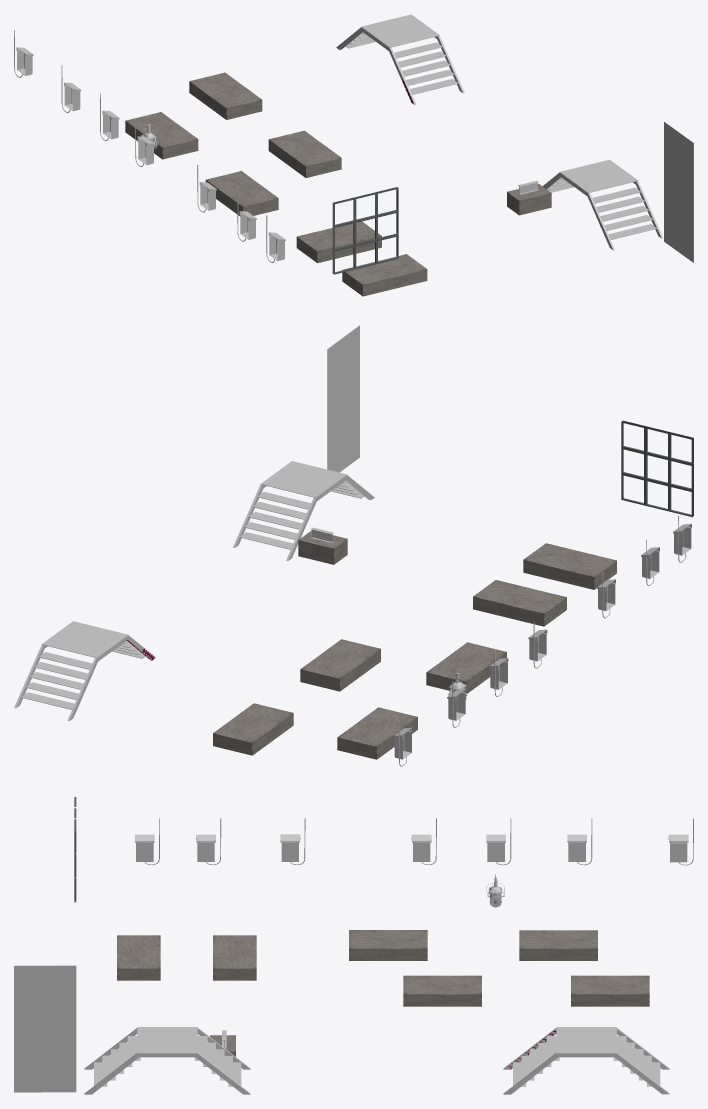
File: inner.DAE
The picture shows the model from 3 angles, top to bottom: view 1: azimuth 30°, elevation 25°; view 2: azimuth 150°, elevation 25°; view 3: azimuth 270°, elevation 25°; orthographic projection. The views are drawn at different scales.
Visible parts, largest first — view 1: W010_, W034-ins3_, W034_, W034-ins1_, W034_ins4, W034-ins5_, W034-ins2_, W052, W052-ins1, W101, W032-ins3_trans, W032_trans (+5 smaller); view 2: W010_, W034_ins4, W034-ins3_, W034_, W034-ins1_, W034-ins2_, W034-ins5_, W052-ins1, W052, W101; view 3: W010_, W034_, W034-ins1_, W034-ins5_, W034-ins2_, W034-ins3_, W034_ins4, W052, W052-ins1, W032_trans, W032-ins2_trans, W032-ins3_trans (+4 smaller).
Boxes of the visible parts, bbox=[...] form: W010_: bbox=[664, 121, 693, 262]; W034-ins3_: bbox=[342, 254, 427, 296]; W034_: bbox=[268, 130, 341, 177]; W034-ins1_: bbox=[189, 72, 262, 119]; W034_ins4: bbox=[296, 221, 381, 263]; W034-ins5_: bbox=[205, 171, 278, 216]; W034-ins2_: bbox=[125, 112, 198, 159]; W052: bbox=[361, 14, 439, 47]; W052-ins1: bbox=[560, 159, 638, 192]; W101: bbox=[507, 184, 551, 215]; W032-ins3_trans: bbox=[61, 65, 81, 112]; W032_trans: bbox=[197, 164, 216, 212]; W010_: bbox=[327, 325, 359, 472]; W034_ins4: bbox=[473, 580, 566, 626]; W034-ins3_: bbox=[523, 543, 616, 589]; W034_: bbox=[300, 639, 380, 691]; W034-ins1_: bbox=[213, 703, 293, 755]; W034-ins2_: bbox=[337, 707, 417, 759]; W034-ins5_: bbox=[426, 642, 506, 693]; W052-ins1: bbox=[260, 461, 347, 497]; W052: bbox=[41, 621, 128, 657]; W101: bbox=[298, 530, 347, 564]; W010_: bbox=[14, 965, 76, 1092]; W034_: bbox=[403, 975, 481, 1006]; W034-ins1_: bbox=[571, 975, 649, 1006]; W034-ins5_: bbox=[349, 930, 427, 960]; W034-ins2_: bbox=[519, 930, 597, 960]; W034-ins3_: bbox=[117, 935, 160, 980]; W034_ins4: bbox=[213, 935, 256, 980]; W052: bbox=[556, 1027, 616, 1053]; W052-ins1: bbox=[137, 1027, 197, 1053]; W032_trans: bbox=[280, 818, 305, 864]; W032-ins2_trans: bbox=[486, 818, 511, 865]; W032-ins3_trans: bbox=[567, 818, 592, 865].
Size of what is drawn, in the model's own units: 101 by 156 by 32.13.
